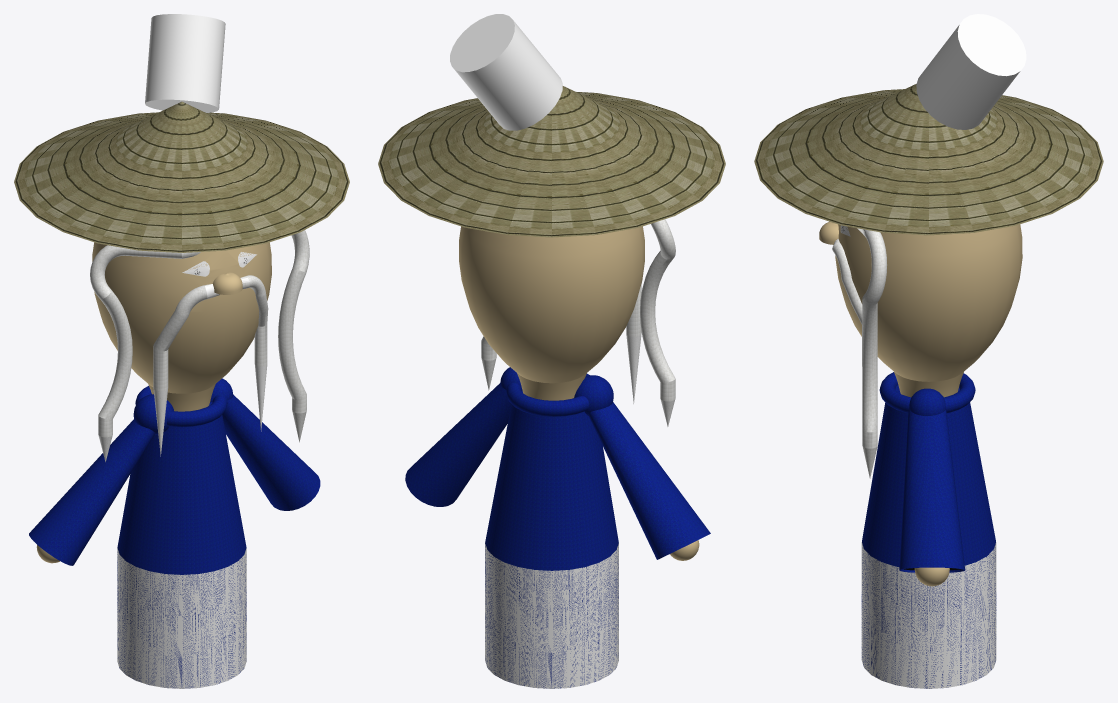
The model's file is chinaracist.dae.
The picture shows the model from 3 angles, left to right: view 1: azimuth 30°, elevation 25°; view 2: azimuth 150°, elevation 25°; view 3: azimuth 270°, elevation 25°; orthographic projection. The views are drawn at different scales.
Parts seen in each view (by area): view 1: Old_Chinese_Man (×13), Component_6; view 2: Old_Chinese_Man (×10), Component_6; view 3: Old_Chinese_Man (×10), Component_6.
Boxes of the visible parts, left/top/right/bottom form: Old_Chinese_Man (×13): left=14, top=101, right=349, bottom=688; Component_6: left=145, top=14, right=225, bottom=112; Old_Chinese_Man (×10): left=378, top=86, right=725, bottom=688; Component_6: left=450, top=14, right=562, bottom=130; Old_Chinese_Man (×10): left=754, top=84, right=1103, bottom=688; Component_6: left=916, top=14, right=1026, bottom=129.
Bounding box in the file's own units: 80.04 × 79.44 × 164.
